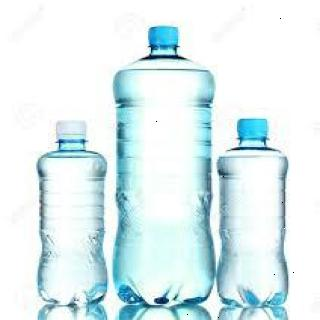Plastic-bottle: (111, 23, 220, 310), (28, 116, 111, 307), (217, 117, 292, 312)
